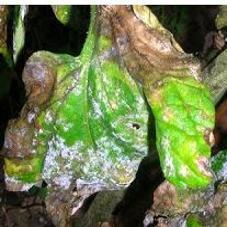Late Blight: (0, 5, 218, 227)
